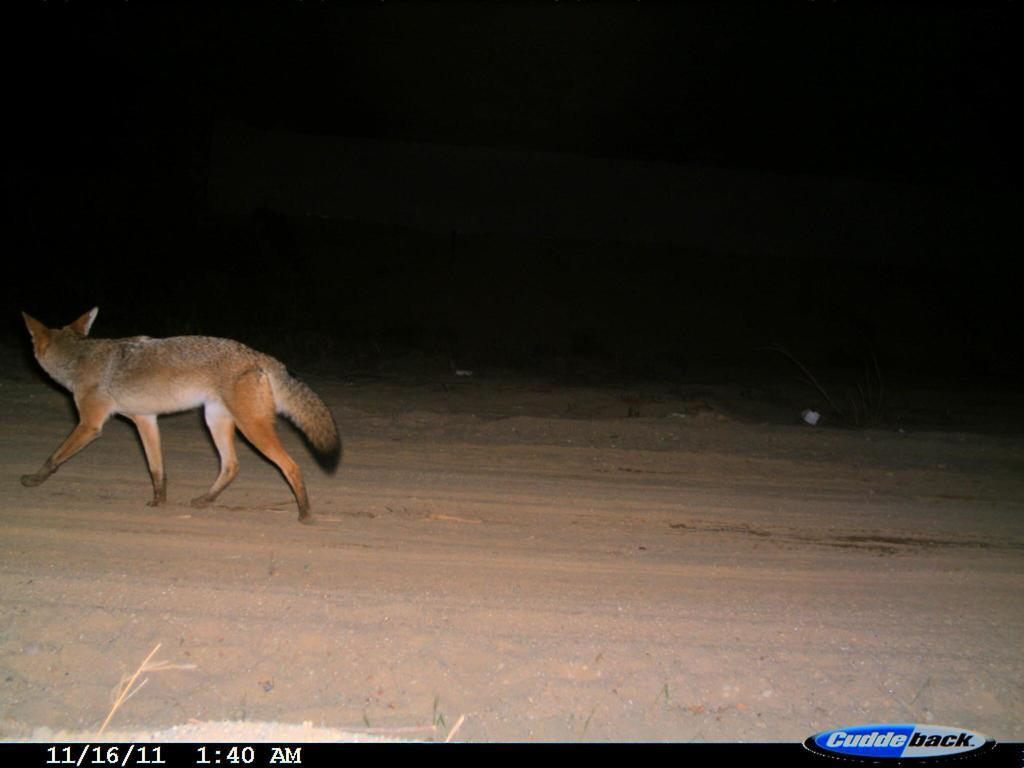coyote: (18, 297, 341, 546)
